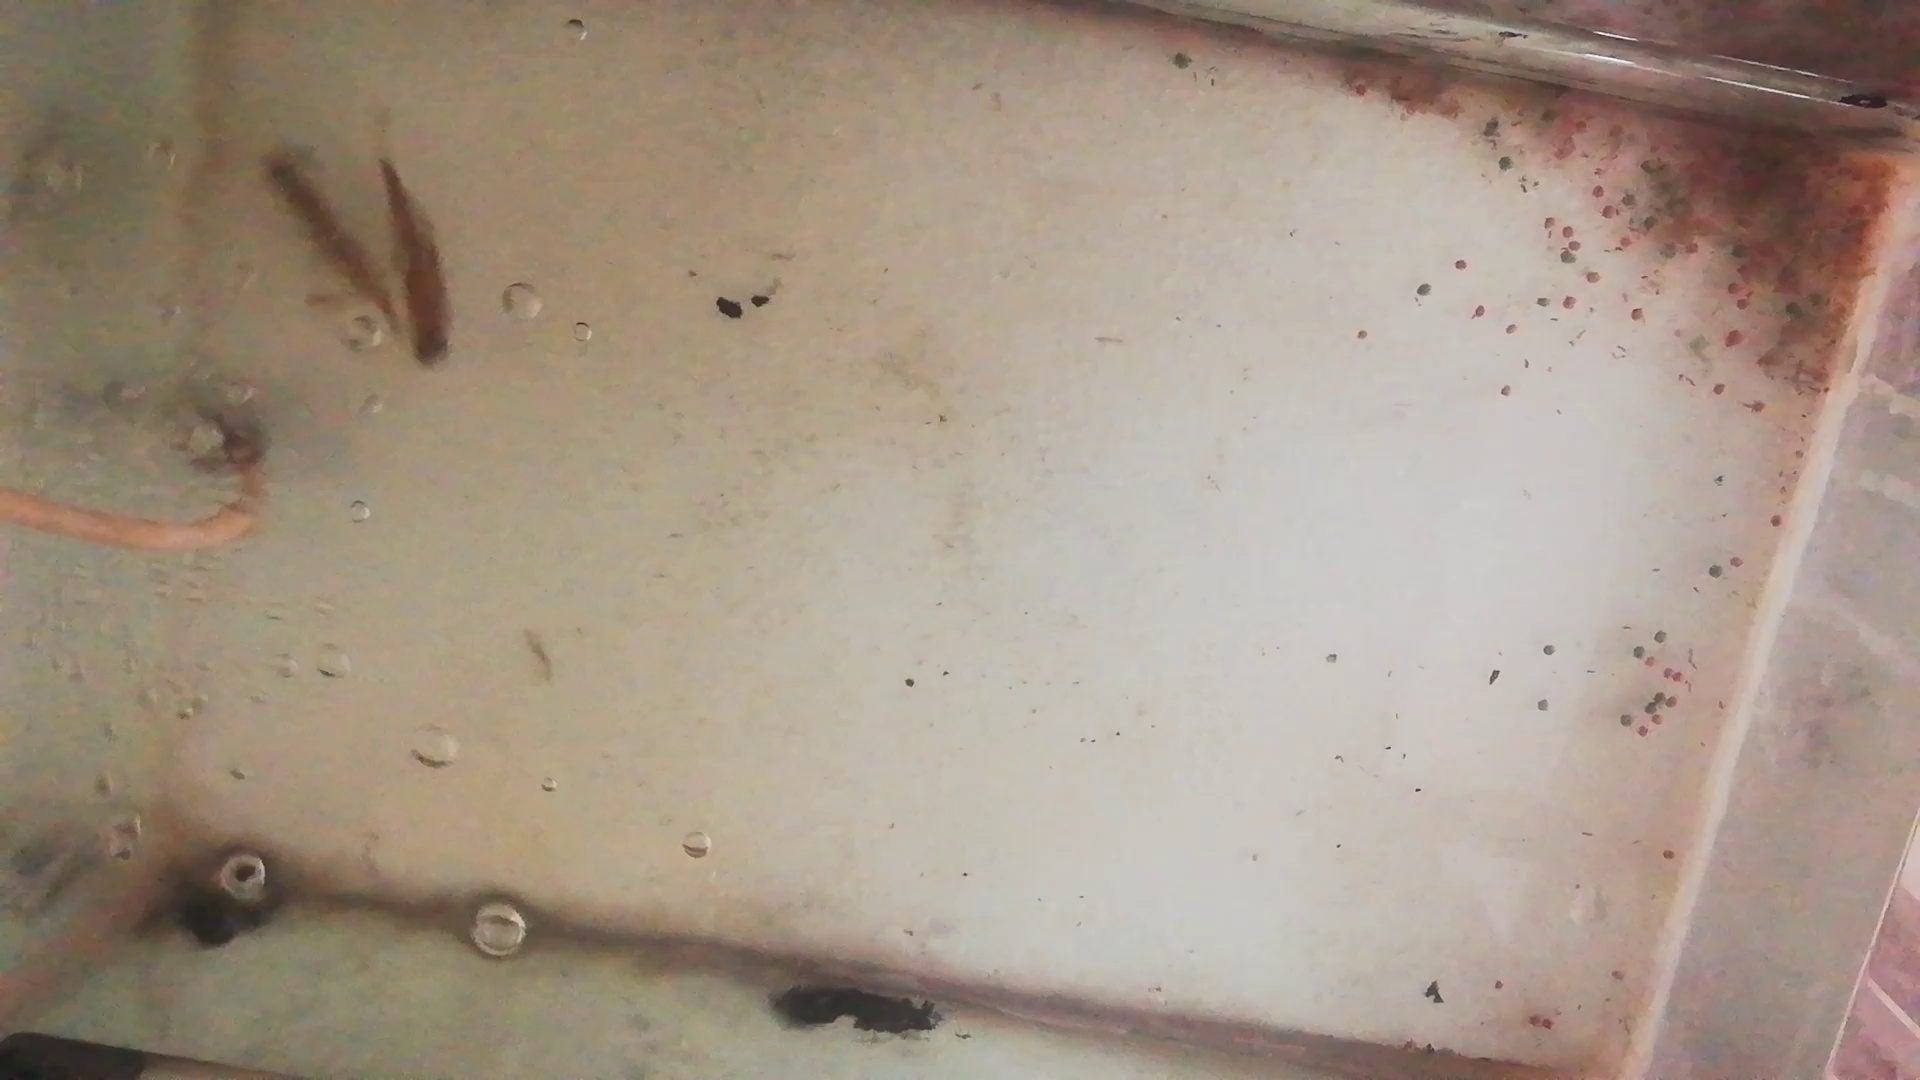fish: (255, 157, 393, 319), (371, 156, 452, 375)
